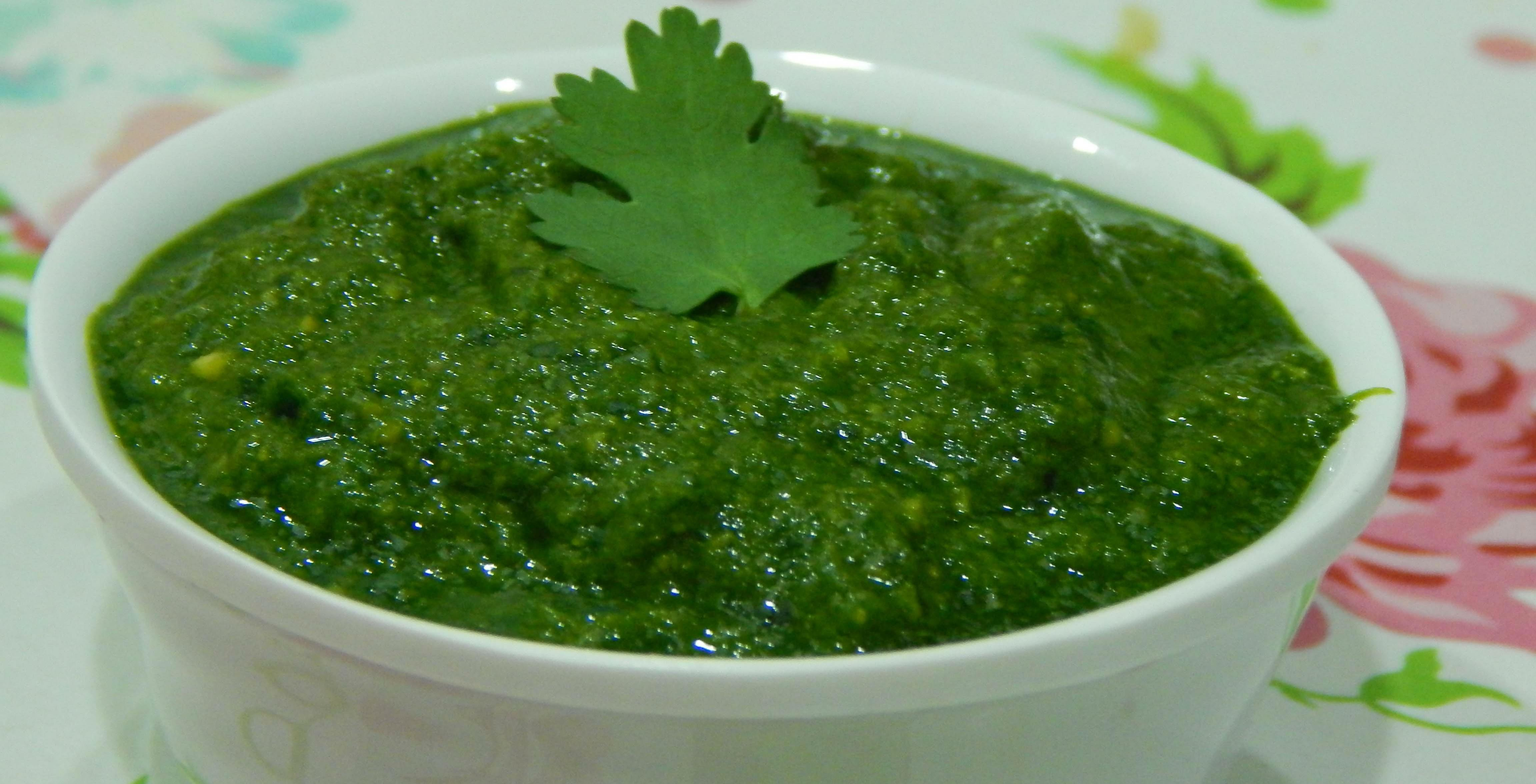GreenChutney: (92, 95, 1359, 655)
